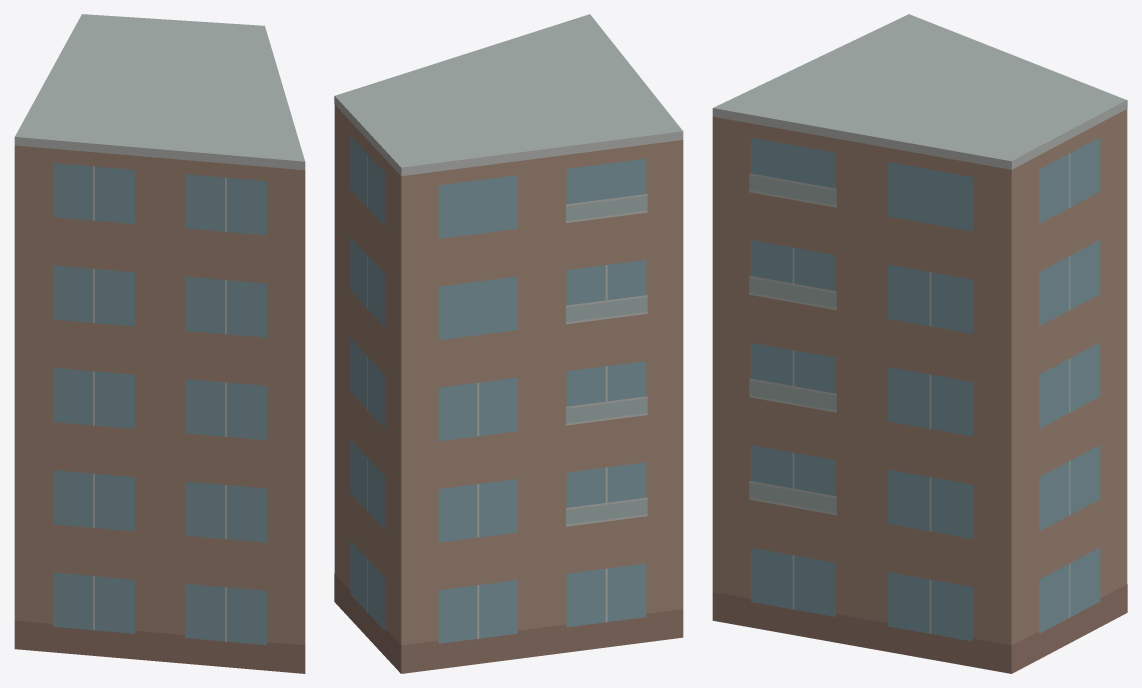
File: survey-upis-32457172.glb
3 renders of one model, left to right at view 1: azimuth 30°, elevation 25°; view 2: azimuth 150°, elevation 25°; view 3: azimuth 270°, elevation 25°, orthographic.
Parts seen in each view (by area): view 1: survey-upis-32457172.tmp; view 2: survey-upis-32457172.tmp; view 3: survey-upis-32457172.tmp.
Part boxes in pixels (x1,y1,x2,y2): survey-upis-32457172.tmp: [14, 14, 305, 673]; survey-upis-32457172.tmp: [334, 14, 683, 673]; survey-upis-32457172.tmp: [712, 14, 1127, 673].
Bounding box in the file's own units: 9.04 × 14.65 × 10.75.
